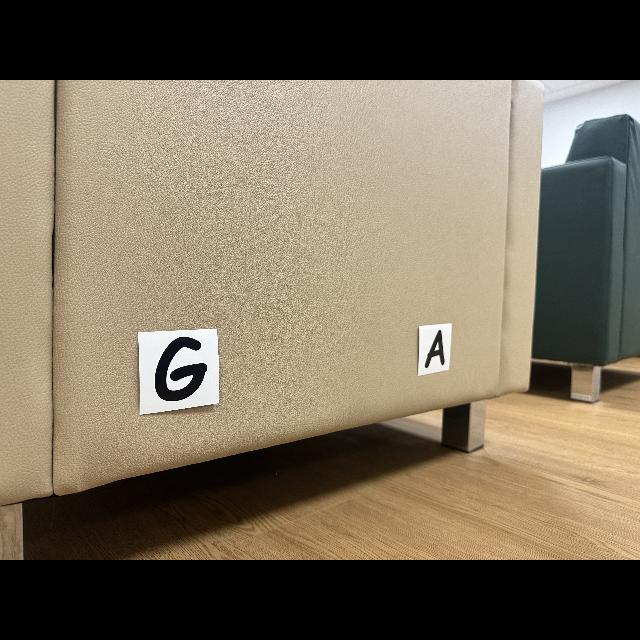A: (425, 330, 445, 368)
G: (155, 336, 208, 401)
